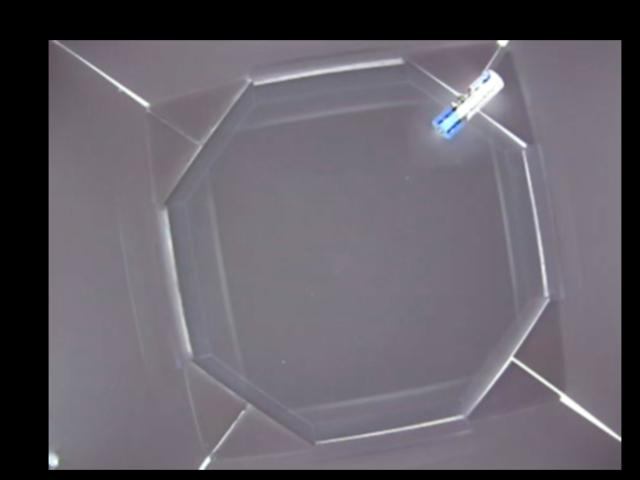Battery: (432, 67, 505, 138)
